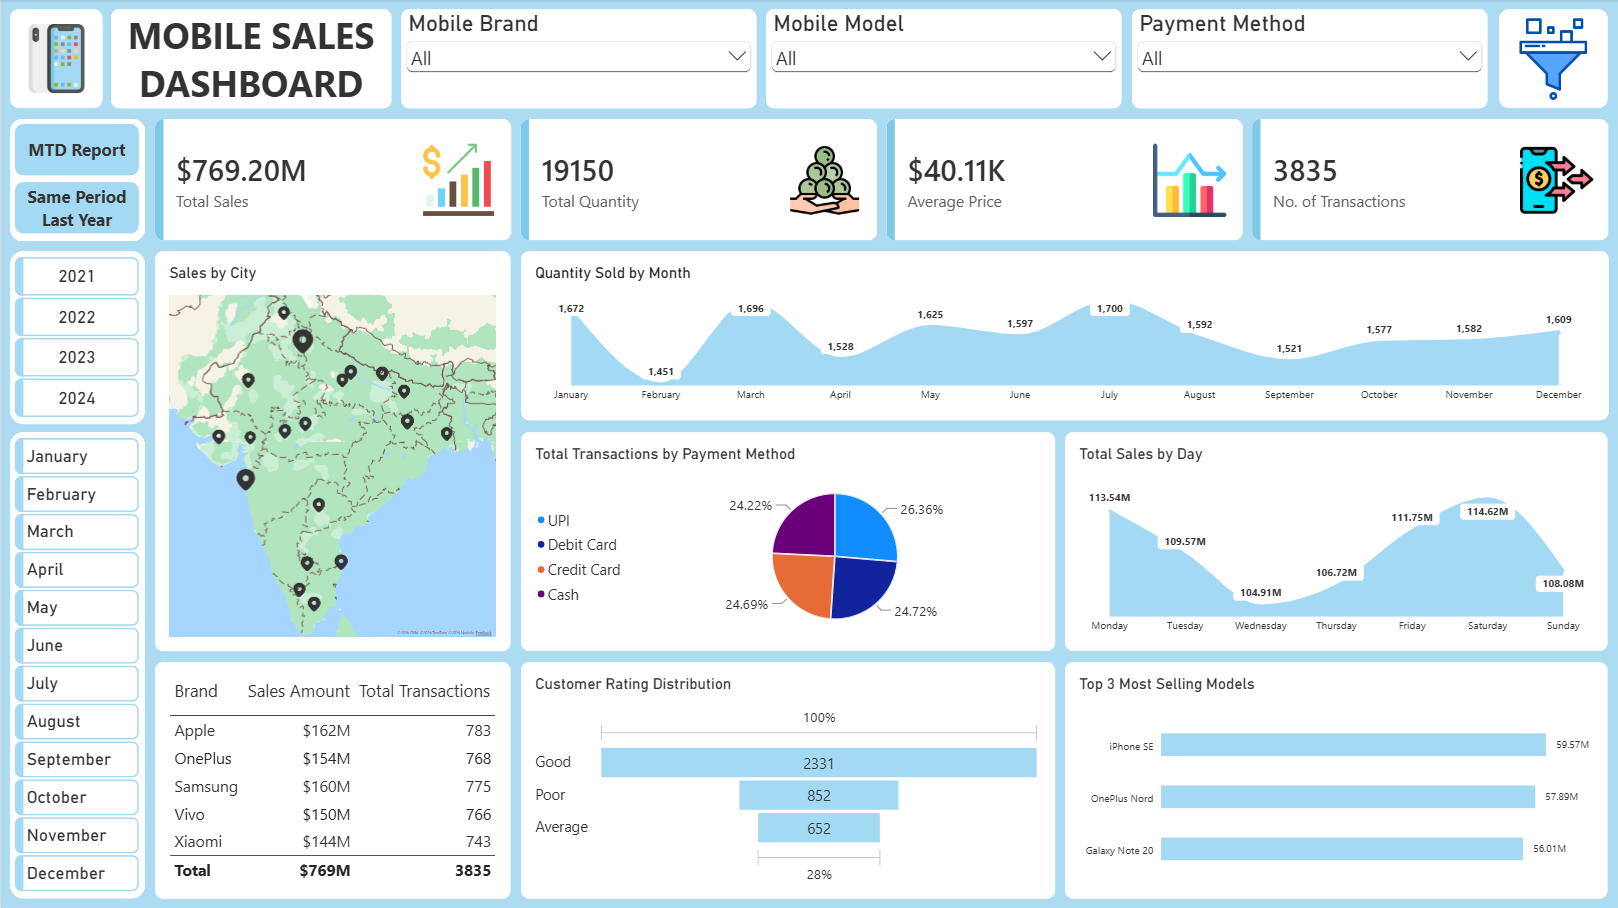

The page's visual inventory and layout, read from the dashboard file:
{"tool":"powerbi","page":{"name":"Dashboard","canvas":[1920,1080],"ordinal":0},"visuals":[{"type":"shape","box":[10.4,11.6,110,117.7],"z":0},{"type":"shape","box":[1777.7,11.6,129.4,117.7],"z":0,"group":"g1"},{"type":"image","box":[1777.7,20.7,129.4,99.6],"z":1000,"group":"g1"},{"type":"image","box":[24.6,29.8,81.5,81.5],"z":1000},{"type":"shape","box":[10.4,142.3,160.4,144.9],"z":2000},{"type":"shape","box":[10.4,298.9,160.4,205.7],"z":3000},{"type":"shape","box":[10.4,513.6,160.4,553.7],"z":4000},{"type":"advancedSlicerVisual","fields":{"Values":["Calendar Table.Date.Variation.Date Hierarchy.Year"]},"box":[16.8,306.6,147.5,192.8],"z":5000},{"type":"advancedSlicerVisual","fields":{"Values":["Calendar Table.Date.Variation.Date Hierarchy.Month"]},"box":[16.8,521.4,147.5,538.2],"z":6000},{"type":"textbox","box":[130.7,11.6,332.5,117.7],"z":7000},{"type":"cardVisual","fields":{"Data":["Measures Table.Sales Amount","Measures Table.Total Quantity","Measures Table.Average Price","Measures Table.Total Transactions"]},"box":[182.4,142.3,1727.2,144.9],"z":8000},{"type":"image","box":[934.1,169.5,86.7,90.6],"z":9000},{"type":"image","box":[1802.3,169.5,86.7,90.6],"z":10000},{"type":"image","box":[1367.5,169.5,86.7,90.6],"z":11000},{"type":"image","box":[499.4,169.5,86.7,90.6],"z":12000},{"type":"slicer","fields":{"Values":["Mobile Brand Dimension.Brand"]},"box":[474.5,11.6,421.8,117.7],"z":13000},{"type":"slicer","fields":{"Values":["Mobile Brand Dimension.Mobile Model"]},"box":[908,11.6,421.8,117.7],"z":14000},{"type":"slicer","fields":{"Values":["Mobile Sales Fact.Payment Method"]},"box":[1342.7,11.6,421.8,117.7],"z":15000},{"type":"lineChart","title":"Quantity Sold by Month","fields":{"Category":["Calendar Dimension.Date.Variation.Date Hierarchy.Month"],"Y":["Measures Table.Total Quantity"]},"box":[617.1,298.9,1291.2,200.5],"z":16000},{"type":"azureMap","title":"Sales by City","fields":{"Category":["Mobile Sales Fact.City"],"Size":["Measures Table.Sales Amount"]},"box":[182.4,298.9,421.8,474.8],"z":17000},{"type":"tableEx","fields":{"Values":["Mobile Brand Dimension.Brand","Measures Table.Sales Amount","Measures Table.Total Transactions"]},"box":[182.4,786.6,422,280.8],"z":18000},{"type":"pieChart","fields":{"Category":["Mobile Sales Fact.Payment Method"],"Y":["Measures Table.Total Transactions"]},"box":[617.1,513.6,634,260.1],"z":19000},{"type":"lineChart","title":"Total Sales by Day","fields":{"Category":["Calendar Dimension.Day Name"],"Y":["Measures Table.Sales Amount"]},"box":[1262.7,513.6,644.3,260.1],"z":20000},{"type":"group","id":"g1","title":"Group 1","box":[1777.7,11.6,129.4,117.7],"z":21000},{"type":"funnel","title":"Customer Rating Distribution","fields":{"Category":["Rating Dimension.Rating Category"],"Y":["CountNonNull(Mobile Sales Fact.Transaction ID)"]},"box":[617,787,634,281],"z":22000},{"type":"barChart","title":"Top 3 Most Selling Models","fields":{"Category":["Mobile Brand Dimension.Mobile Model"],"Y":["Measures Table.Sales Amount"]},"box":[1263,787,644,281],"z":23000},{"type":"pageNavigator","box":[16.8,148.8,147.5,132],"z":24000}]}

Visuals, with their boxes in screenshot pixels (x1, y1, x2, y2), scaled from the page's 1920x1080 canvas onto the 1618x908 screenshot:
shape: region(9, 10, 101, 109)
shape: region(1498, 10, 1607, 109)
image: region(1498, 17, 1607, 101)
image: region(21, 25, 89, 94)
shape: region(9, 120, 144, 241)
shape: region(9, 251, 144, 424)
shape: region(9, 432, 144, 897)
advancedSlicerVisual - Calendar Table.Date.Variation.Date Hierarchy.Year: region(14, 258, 138, 420)
advancedSlicerVisual - Calendar Table.Date.Variation.Date Hierarchy.Month: region(14, 438, 138, 891)
textbox: region(110, 10, 390, 109)
cardVisual - Measures Table.Sales Amount x Measures Table.Total Quantity: region(154, 120, 1609, 241)
image: region(787, 143, 860, 219)
image: region(1519, 143, 1592, 219)
image: region(1152, 143, 1225, 219)
image: region(421, 143, 494, 219)
slicer - Mobile Brand Dimension.Brand: region(400, 10, 755, 109)
slicer - Mobile Brand Dimension.Mobile Model: region(765, 10, 1121, 109)
slicer - Mobile Sales Fact.Payment Method: region(1132, 10, 1487, 109)
"Quantity Sold by Month" lineChart: region(520, 251, 1608, 420)
"Sales by City" azureMap: region(154, 251, 509, 650)
tableEx - Mobile Brand Dimension.Brand x Measures Table.Sales Amount: region(154, 661, 509, 897)
pieChart - Mobile Sales Fact.Payment Method x Measures Table.Total Transactions: region(520, 432, 1054, 650)
"Total Sales by Day" lineChart: region(1064, 432, 1607, 650)
"Group 1" group: region(1498, 10, 1607, 109)
"Customer Rating Distribution" funnel: region(520, 662, 1054, 898)
"Top 3 Most Selling Models" barChart: region(1064, 662, 1607, 898)
pageNavigator: region(14, 125, 138, 236)
